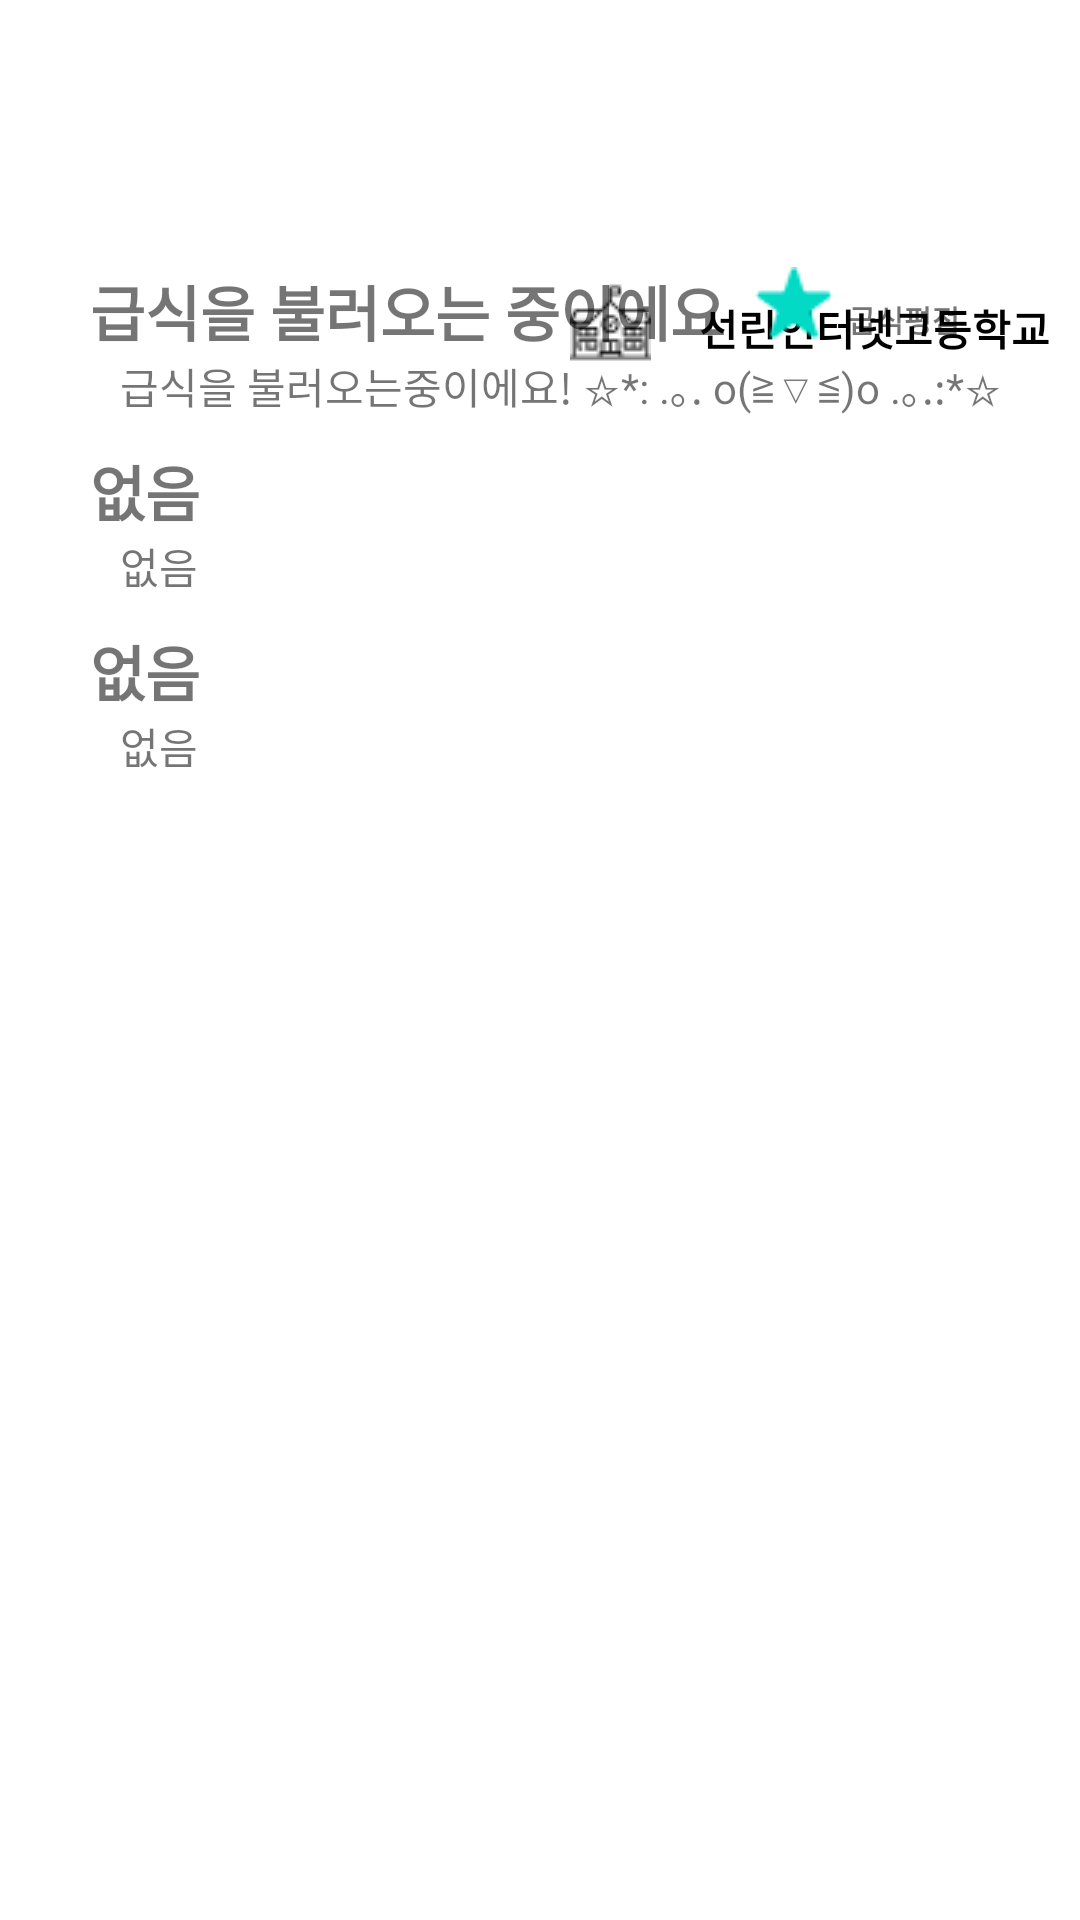

Point at icon controls on the screen. Image size 1080px x 1920px, points as (x,y).
schoolicon: (610,322)
star: (794,303)
